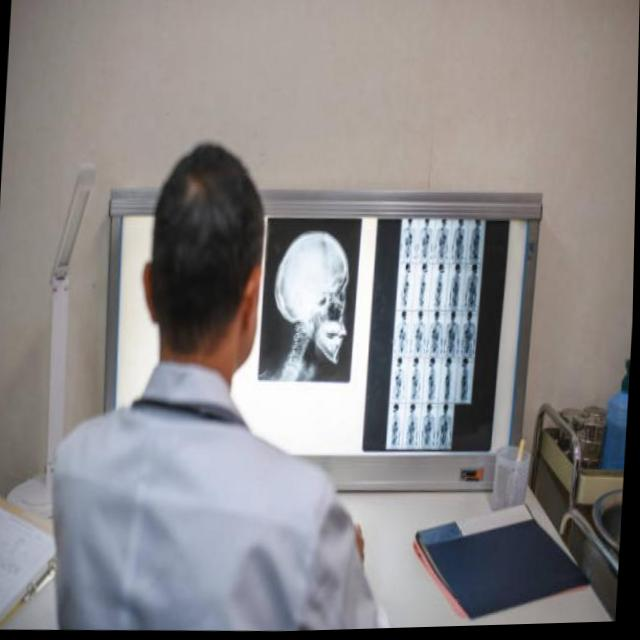no helmet: (120, 115, 284, 384)
